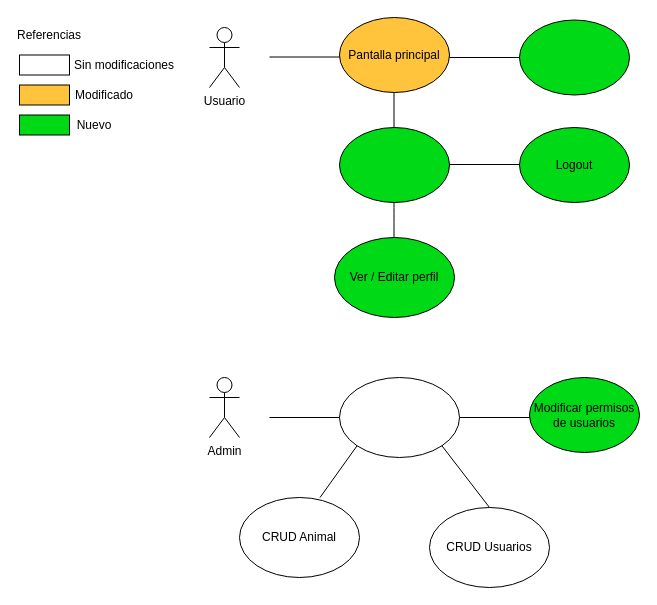
Some shapes in this 657 by 605 pixel diagram are drawn without their labels. Each missing label, with the centre of its shape:
Login: the point at 394,164
Login Backoffice: the point at 399,417
Ver detalles de animales: the point at 574,57
